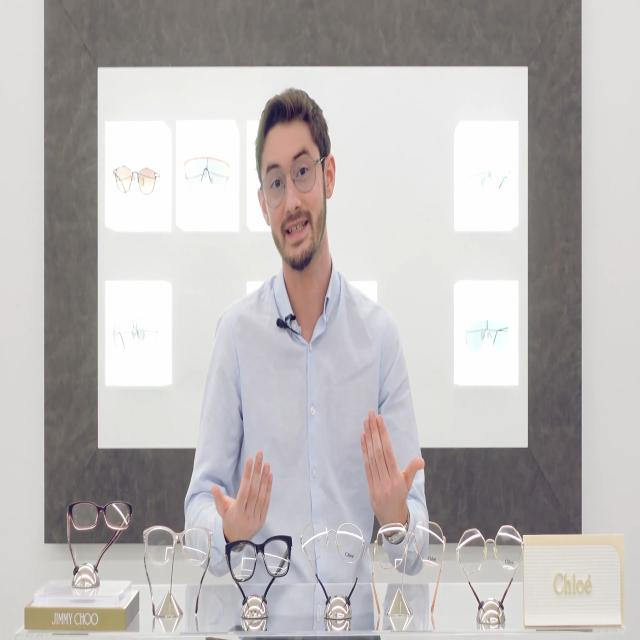dress: (184, 258, 430, 585)
glasses: (261, 151, 319, 209)
